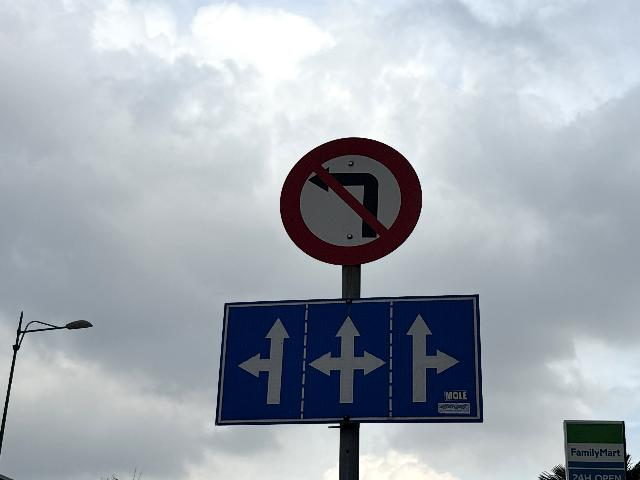cam-re-trai: (279, 137, 425, 267)
